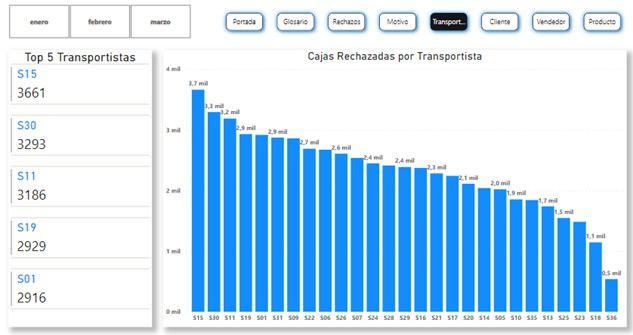

The dashboard page shown, as its layout file describes it:
{"tool":"powerbi","page":{"name":"Transportista","canvas":[1280,720],"ordinal":4},"visuals":[{"type":"columnChart","title":"Cajas Rechazadas por Transportista         ","fields":{"Category":["Rechazos.ID_Transportista"],"Y":["Sum(Rechazos.Cantidad)"]},"box":[348.9,115.8,916,546.9],"z":0},{"type":"pageNavigator","box":[463.7,34.6,800.6,53.3],"z":1000},{"type":"multiRowCard","title":"Top 5 Transportistas","fields":{"Values":["Rechazos.ID_Transportista","Sum(Rechazos.Cantidad)"]},"box":[43.6,115.8,283.5,546.9],"z":2000},{"type":"slicer","fields":{"Values":["Tabla Calendario.Mes"]},"box":[18.7,21.6,407.5,79.2],"z":3000}]}

Visuals, with their boxes on the page's 1280x720 design canvas (x1, y1, x2, y2). These are canvas units, not pixel positions in the 633x335 screenshot, which may show the page scaled, cropped or inside an application window:
"Cajas Rechazadas por Transportista         " columnChart: {"x1": 349, "y1": 116, "x2": 1265, "y2": 663}
pageNavigator: {"x1": 464, "y1": 35, "x2": 1264, "y2": 88}
"Top 5 Transportistas" multiRowCard: {"x1": 44, "y1": 116, "x2": 327, "y2": 663}
slicer - Tabla Calendario.Mes: {"x1": 19, "y1": 22, "x2": 426, "y2": 101}
